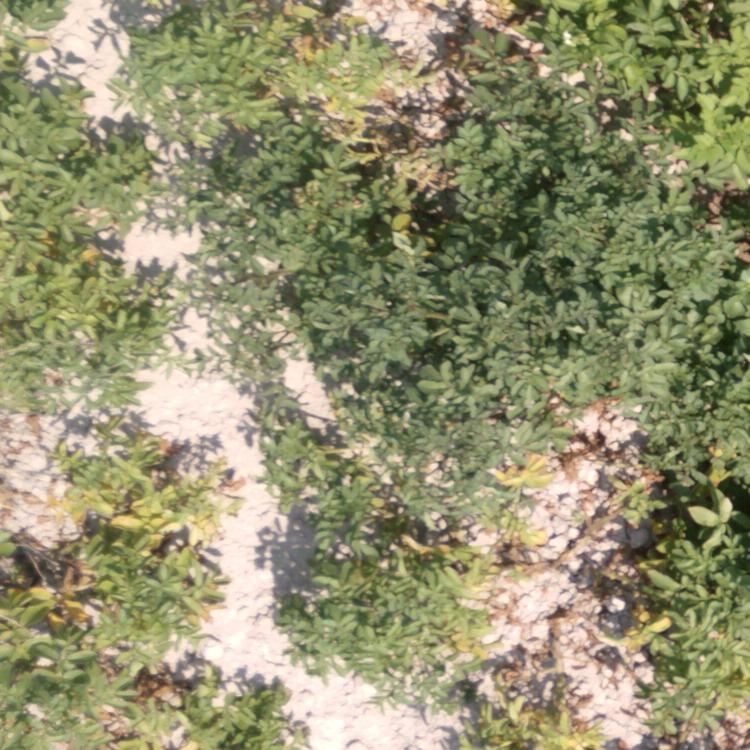healthy: (221, 261, 747, 396), (516, 16, 739, 269), (1, 1, 131, 206), (132, 1, 239, 178)
stressed: (278, 406, 555, 647), (241, 3, 492, 260), (1, 421, 217, 651), (623, 399, 747, 750), (1, 215, 187, 404), (1, 658, 311, 747), (366, 657, 629, 750)
